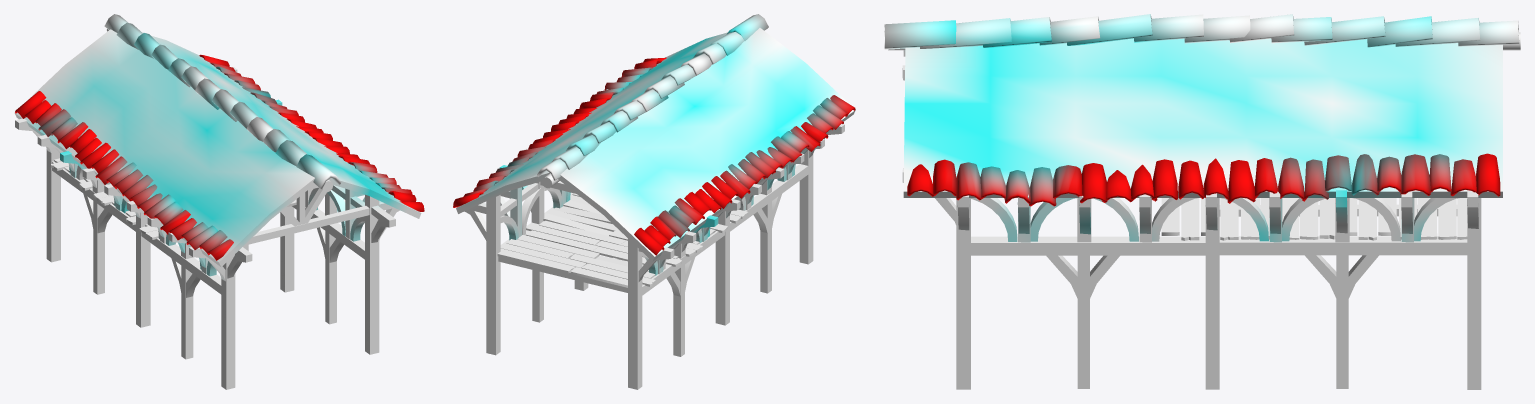
The model's file is SM_House_Barn.FBX.
3 views of the same model, side by side, from view 1: azimuth 30°, elevation 25°; view 2: azimuth 150°, elevation 25°; view 3: azimuth 270°, elevation 25° (orthographic). The views are drawn at different scales.
Parts seen in each view (by area): view 1: SM_House_Barn_LOD0; view 2: SM_House_Barn_LOD0; view 3: SM_House_Barn_LOD0.
Boxes of the visible parts, x1,y1,x2,y2 form: SM_House_Barn_LOD0: (14,14,424,389); SM_House_Barn_LOD0: (453,14,855,389); SM_House_Barn_LOD0: (884,14,1520,389).
Size of what is drawn, in the model's own units: 720 by 1205 by 675.
